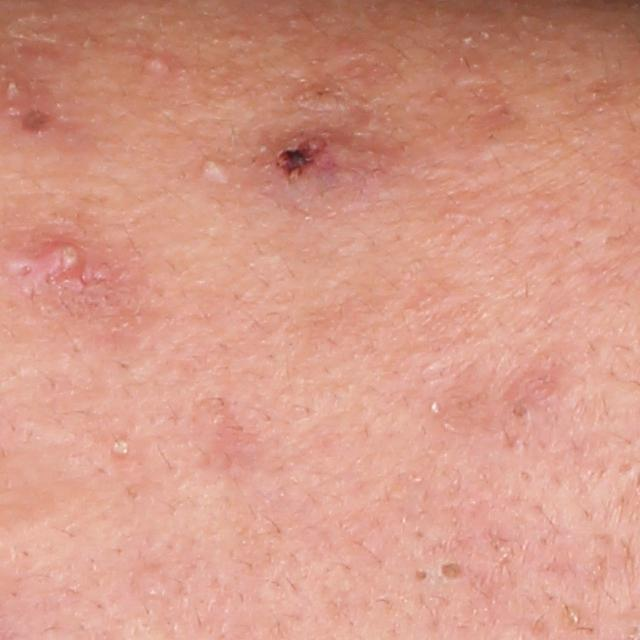comedo: (502, 397, 538, 431), (189, 154, 233, 181), (438, 561, 468, 584), (413, 565, 433, 587), (425, 399, 443, 418)
papule: (258, 118, 400, 205)
pustule: (20, 234, 102, 309), (105, 429, 139, 467)
